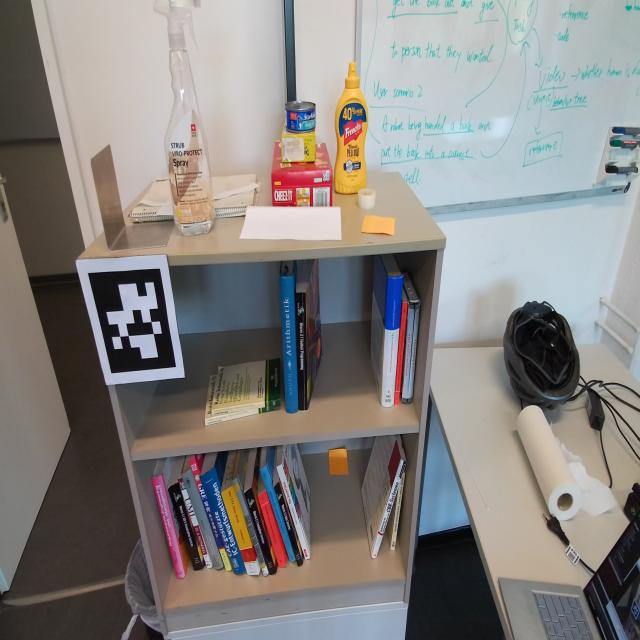Book Spine: (188, 457, 232, 571), (200, 466, 245, 574), (181, 468, 224, 570), (232, 476, 269, 577), (259, 463, 296, 562), (152, 474, 186, 579), (371, 458, 406, 559), (221, 485, 259, 575), (276, 464, 310, 561), (177, 478, 212, 569), (168, 483, 203, 571), (381, 276, 403, 408), (244, 488, 276, 575), (279, 276, 299, 413), (274, 482, 303, 567), (258, 491, 286, 567), (394, 303, 408, 405), (205, 406, 274, 426), (407, 303, 420, 404), (402, 304, 415, 403), (211, 399, 281, 416), (390, 472, 405, 551), (297, 293, 307, 411)
